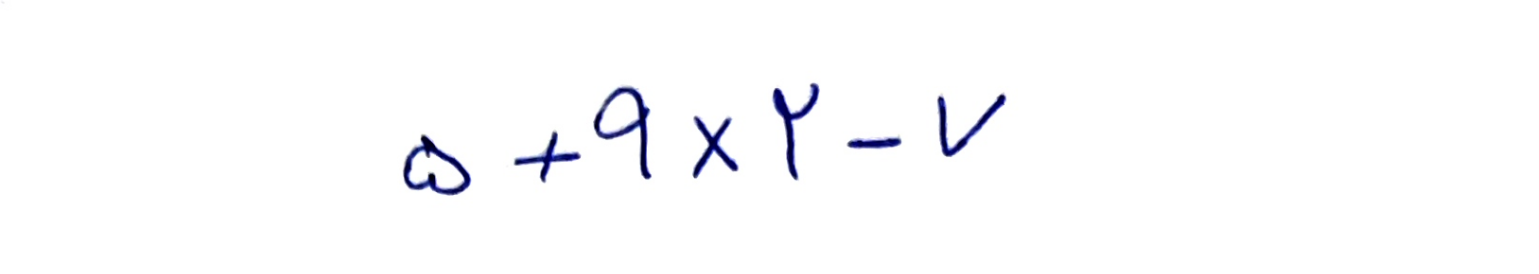character: (592, 84, 654, 181), (936, 90, 1010, 158), (771, 81, 820, 183), (401, 133, 472, 192), (511, 128, 582, 187), (692, 115, 740, 181), (847, 135, 904, 150)
